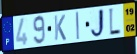4: (15, 16, 29, 47)
9: (33, 14, 47, 46)
I: (75, 11, 80, 41)
J: (90, 8, 106, 39)
K: (53, 14, 67, 42)
L: (108, 7, 122, 38)
